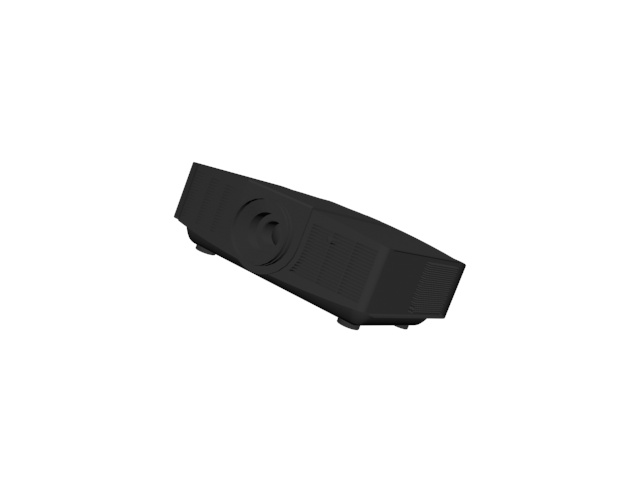projector: (169, 161, 472, 336)
